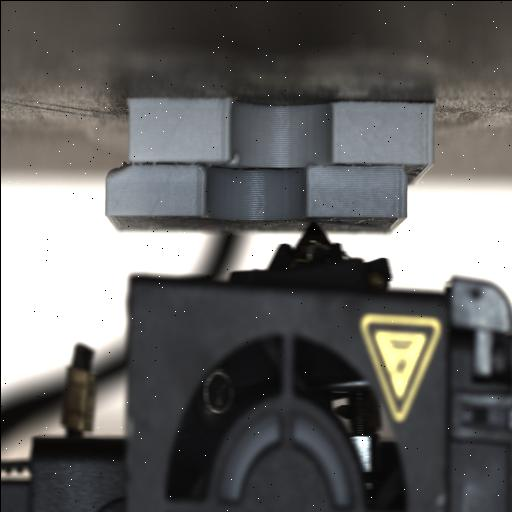layer_shift: (101, 156, 434, 181)
